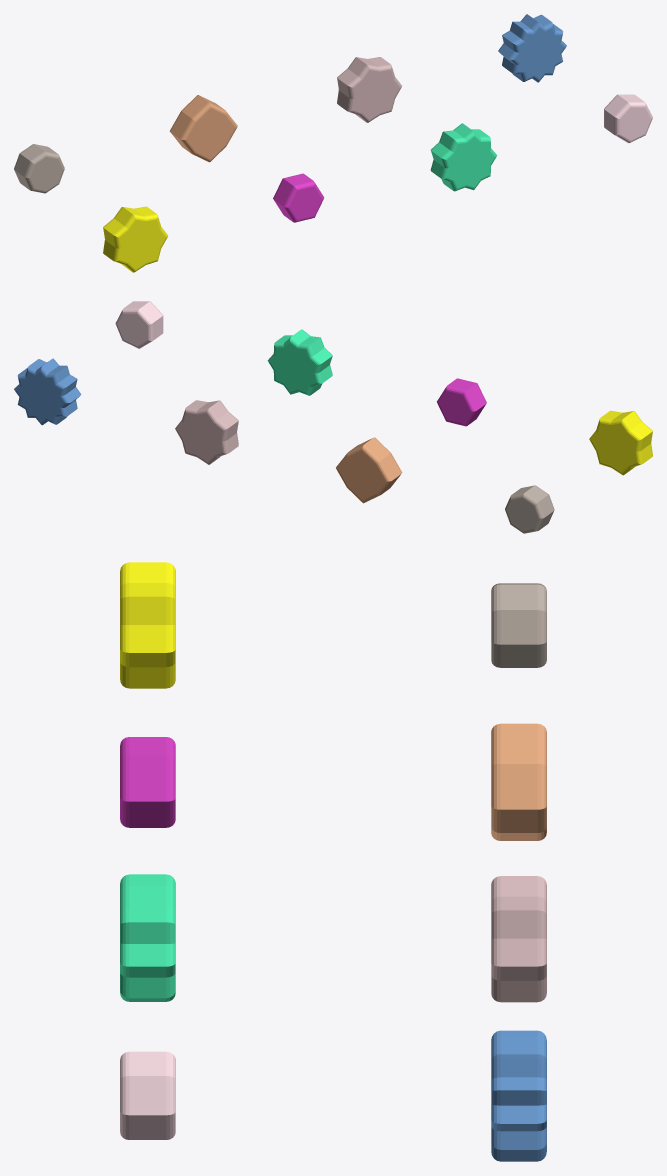
The model's file is Phong Texturized_Linear_2023-07-23-20-47-44.gltf.
3 renders of one model, top to bottom at view 1: azimuth 30°, elevation 25°; view 2: azimuth 150°, elevation 25°; view 3: azimuth 270°, elevation 25°, orthographic. The views are drawn at different scales.
Bounding box in the file's own units: 667 × 70.83 × 230.
